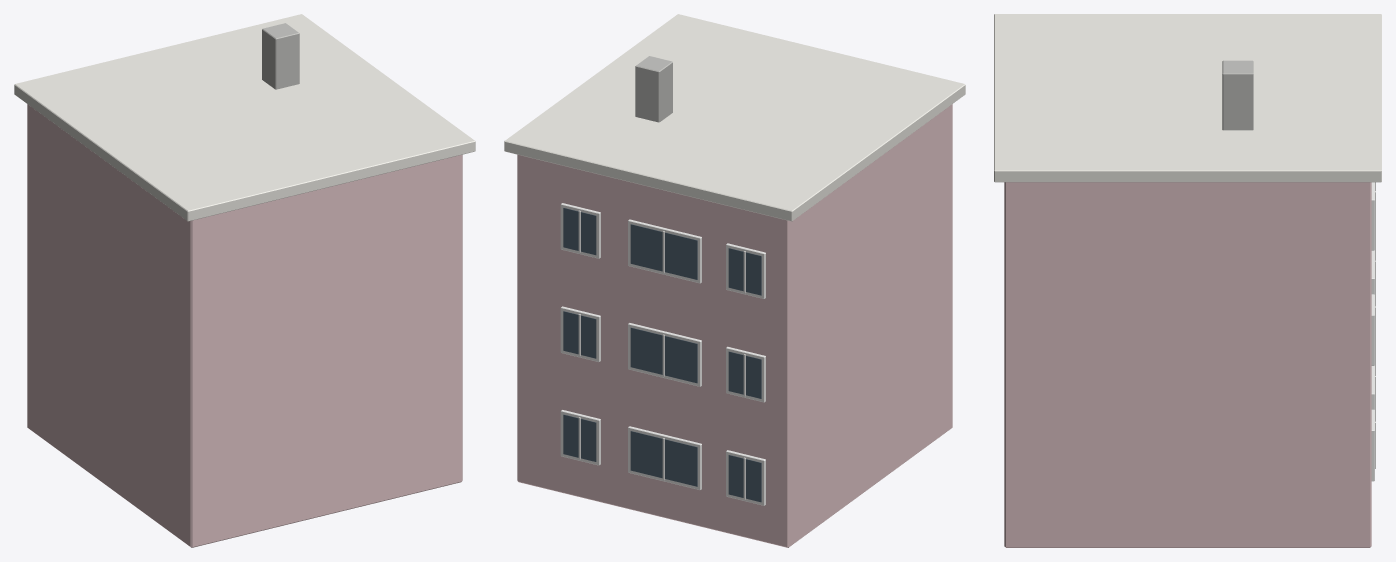
Rendered from Sultanbeyli_PinkApartman.fbx.
The picture shows the model from 3 angles, left to right: view 1: azimuth 30°, elevation 25°; view 2: azimuth 150°, elevation 25°; view 3: azimuth 270°, elevation 25°; orthographic projection. The views are drawn at different scales.
Parts seen in each view (by area): view 1: Sultanbeyli_PinkApartman; view 2: Sultanbeyli_PinkApartman; view 3: Sultanbeyli_PinkApartman.
Boxes of the visible parts, <box> form: Sultanbeyli_PinkApartman: <box>14,14,475,547</box>; Sultanbeyli_PinkApartman: <box>504,14,965,547</box>; Sultanbeyli_PinkApartman: <box>994,14,1381,547</box>.
Bounding box in the file's own units: 8.9 × 11.62 × 9.3.
